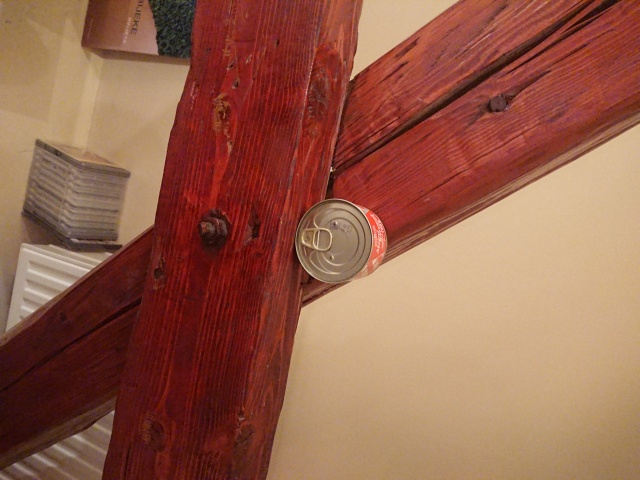Podravka Luncheon Meat 150g: (293, 197, 390, 286)
